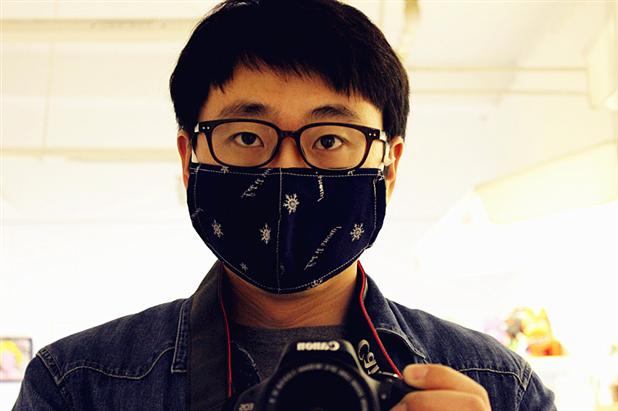face_mask: (191, 63, 389, 271)
